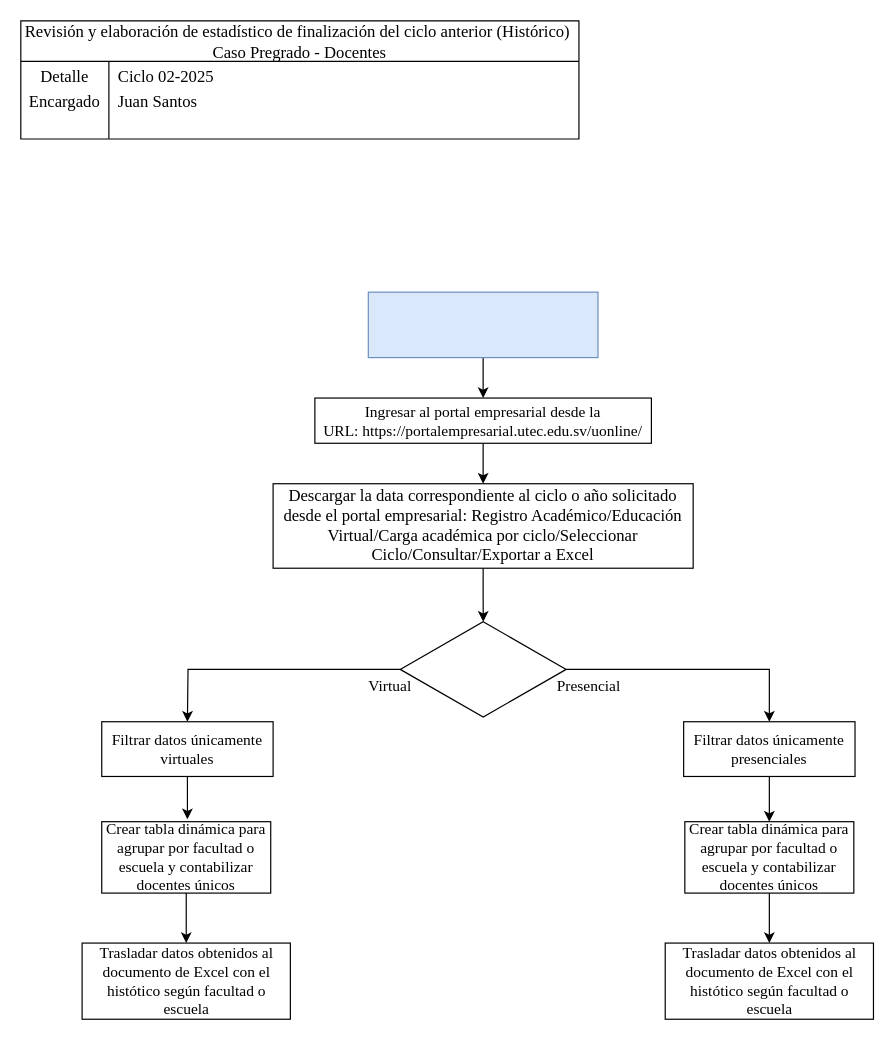
The diagram is 895 pixels wide and 1040 high, and some of its shapes have lost their labels. The centre of each missing label's shape, as x and y in pixels:
"Revisión y elaboración de estadístico de finalización del ciclo anterior" belongs at (482,324).
"¿Presencial o virtual?" belongs at (482,669).
